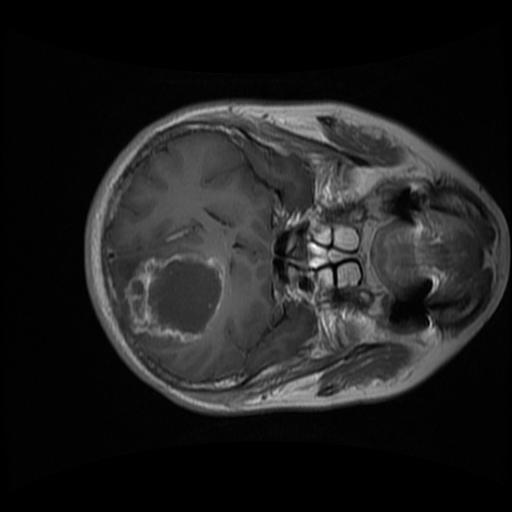glioma: (119, 249, 226, 346)
